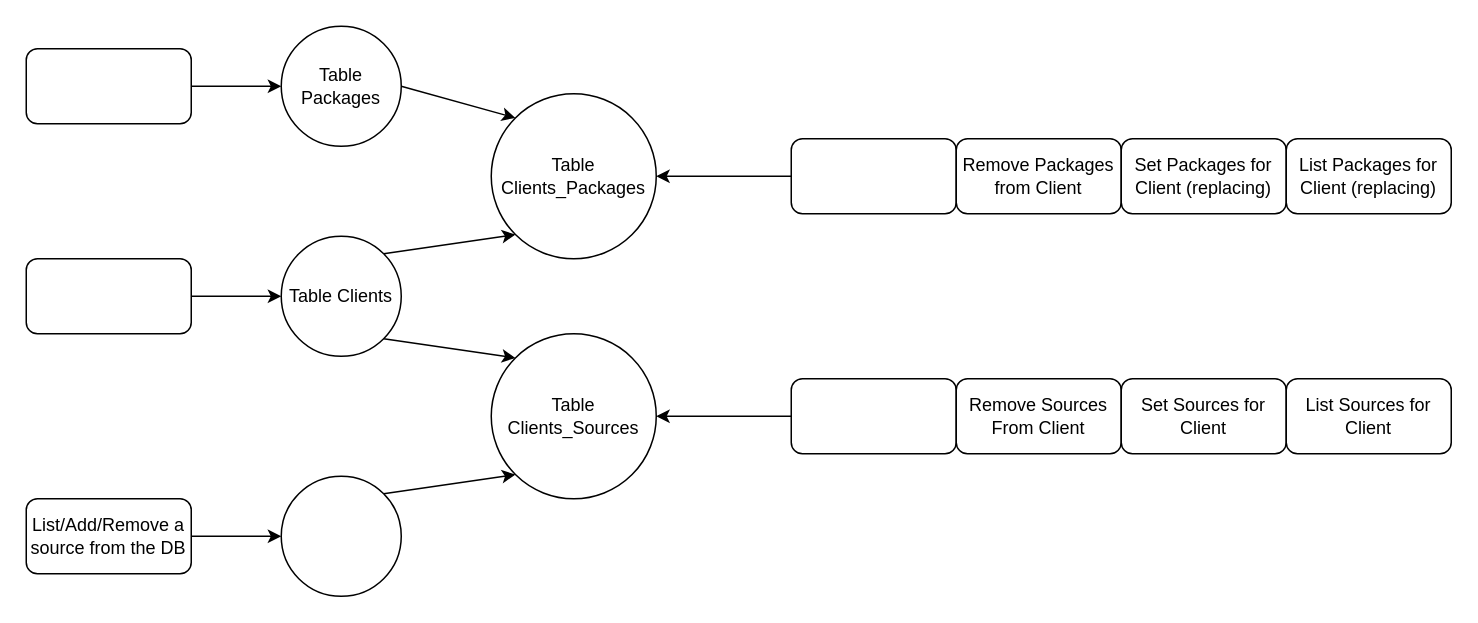
Image size: 1478x623. Some labels were removed from this diagram. The shapes that lost their labels are listed below. From the top down, each one's box as (x1, y1, x2, y2) in pixels, then its label:
(25, 47, 191, 124): List/Add/Remove a package from the DB
(790, 137, 956, 214): Add Packages to Client
(25, 257, 191, 334): List/Add/Remove a client from the DB
(790, 377, 956, 454): Add Sources to Client
(280, 475, 401, 596): Table Sources
